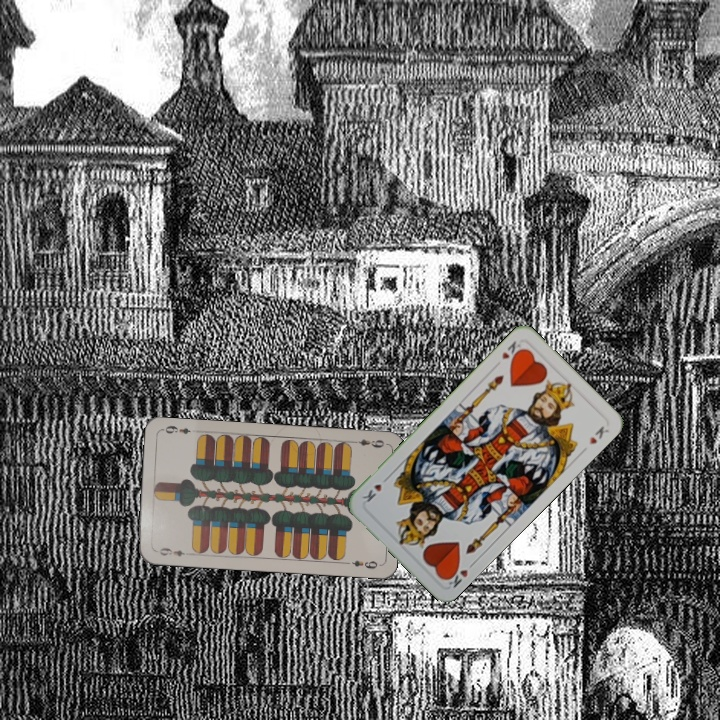E9: (347, 435, 387, 450), (152, 544, 188, 559)
HK: (441, 557, 478, 591), (497, 337, 525, 364)
